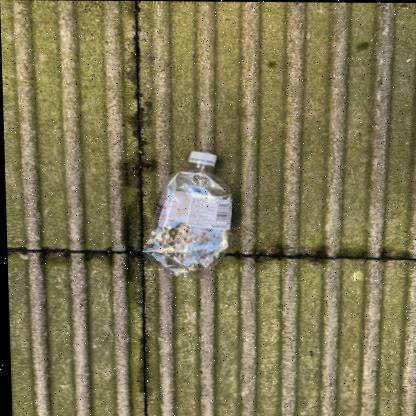Plastic: (141, 150, 231, 279)
